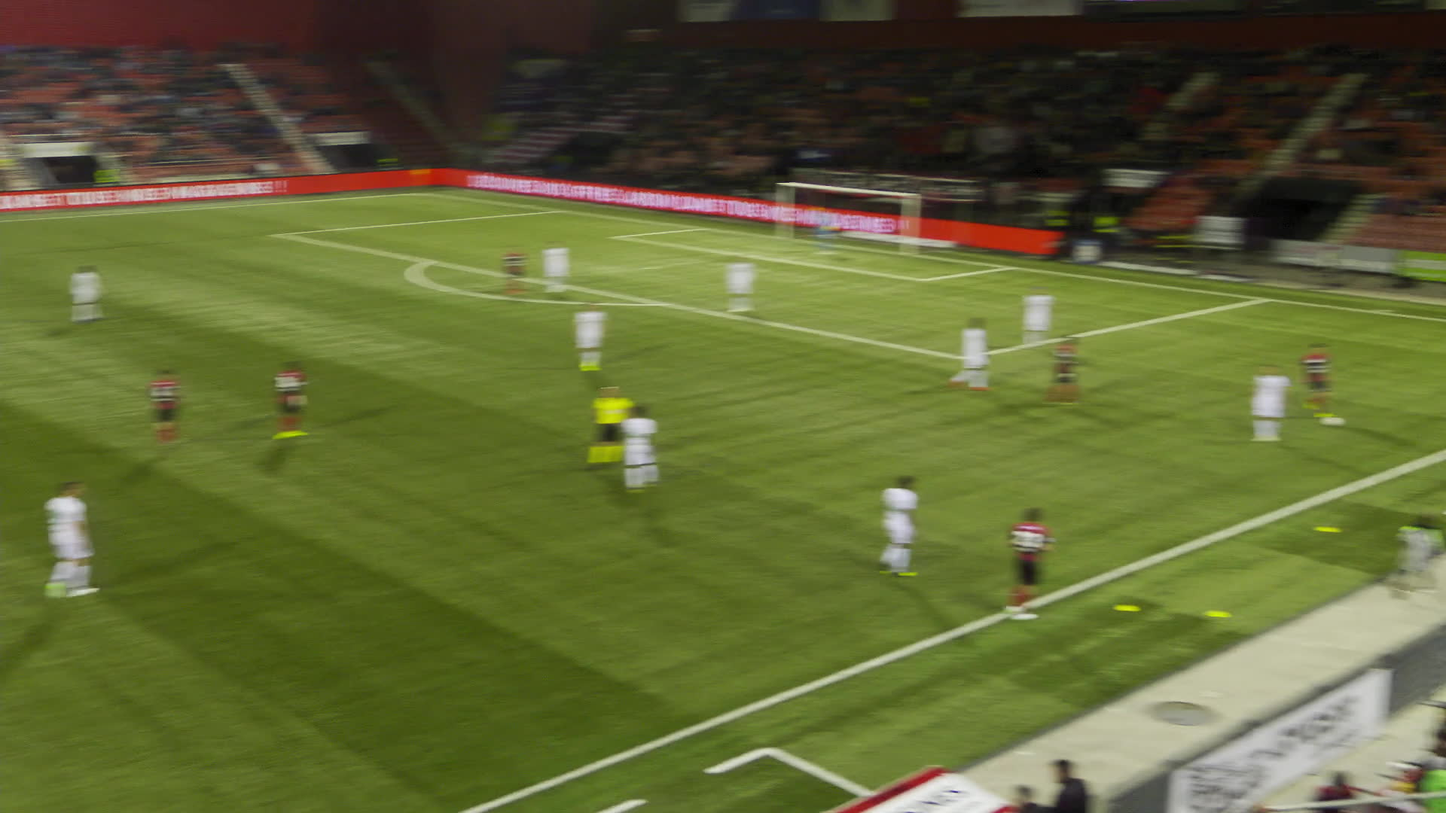ball: (1351, 416, 1378, 427)
player: (44, 476, 100, 599), (1023, 507, 1080, 617), (911, 477, 966, 578), (962, 313, 1014, 392), (648, 405, 693, 491), (1278, 361, 1325, 439), (310, 356, 351, 437), (1298, 340, 1338, 417), (1058, 333, 1100, 405), (191, 358, 227, 432), (602, 301, 638, 368), (96, 258, 133, 321), (722, 253, 755, 314), (1022, 287, 1053, 343), (577, 237, 606, 291), (536, 244, 563, 292), (813, 211, 837, 254)
referee: (609, 381, 658, 469)
